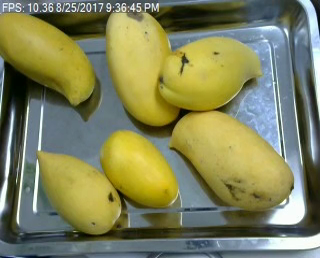Mango: (166, 109, 301, 214), (0, 6, 103, 108), (101, 5, 185, 130), (159, 26, 268, 117), (28, 144, 125, 236), (103, 126, 180, 211)
